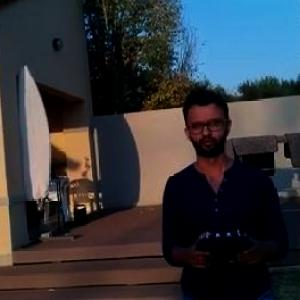follow: (155, 83, 292, 299)
